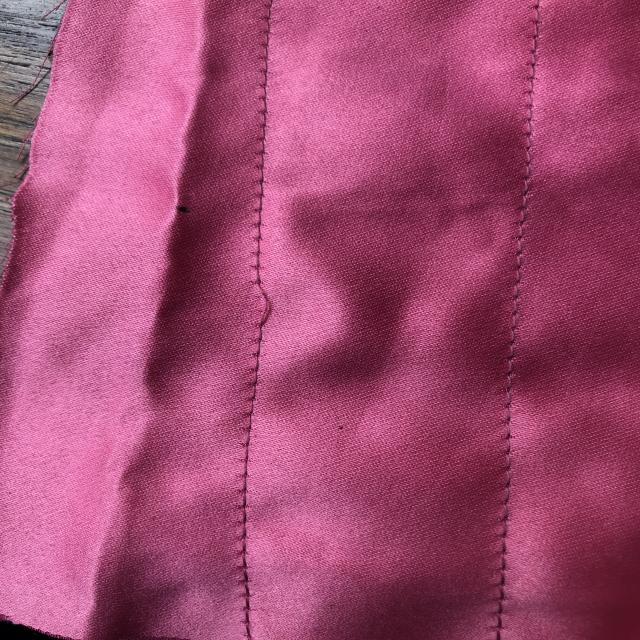good: (500, 249, 540, 346)
skip: (228, 270, 302, 341)
